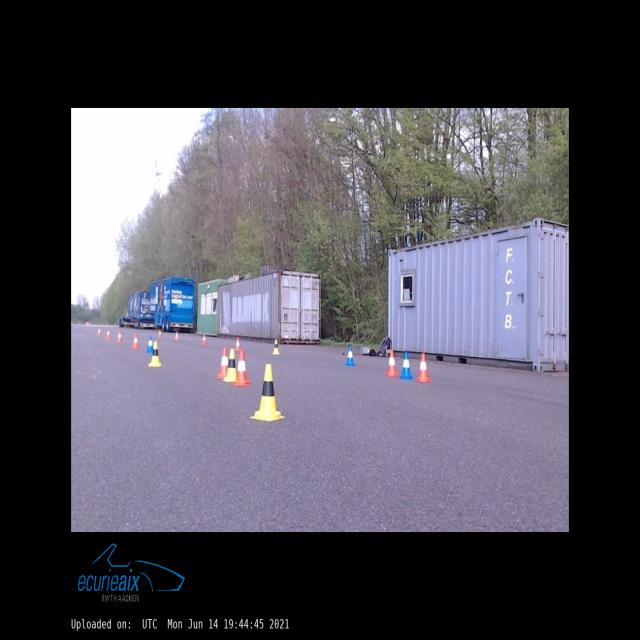blue_cone: (400, 352, 413, 378), (345, 344, 355, 366), (146, 336, 153, 352)
orange_cone: (233, 350, 251, 386), (416, 353, 431, 382), (216, 347, 228, 378), (385, 350, 399, 376), (132, 334, 140, 348), (234, 337, 240, 350), (116, 330, 122, 342), (202, 333, 206, 345), (106, 328, 110, 338), (158, 329, 162, 337), (175, 332, 179, 339), (98, 327, 101, 335)
yellow_cone: (250, 364, 284, 421), (223, 348, 236, 382), (148, 342, 162, 366), (272, 338, 280, 354)
